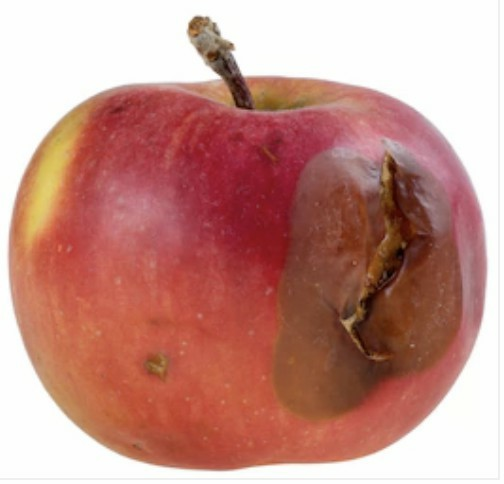rotten_apple: (10, 76, 489, 472)
